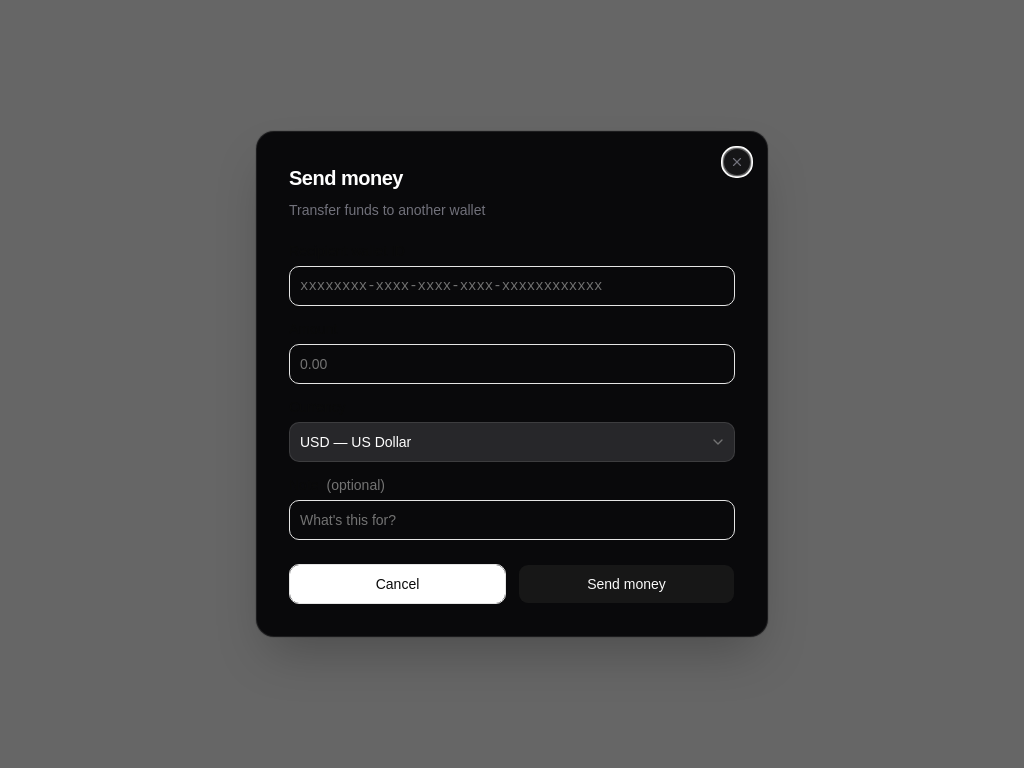
SendMoneyModal — form validation › shows error when amount is not a valid number
In the field labelled "Recipient wallet ID": (512, 286) [289,266,735,306], type "12345678-1234-4234-8234-123456789012"
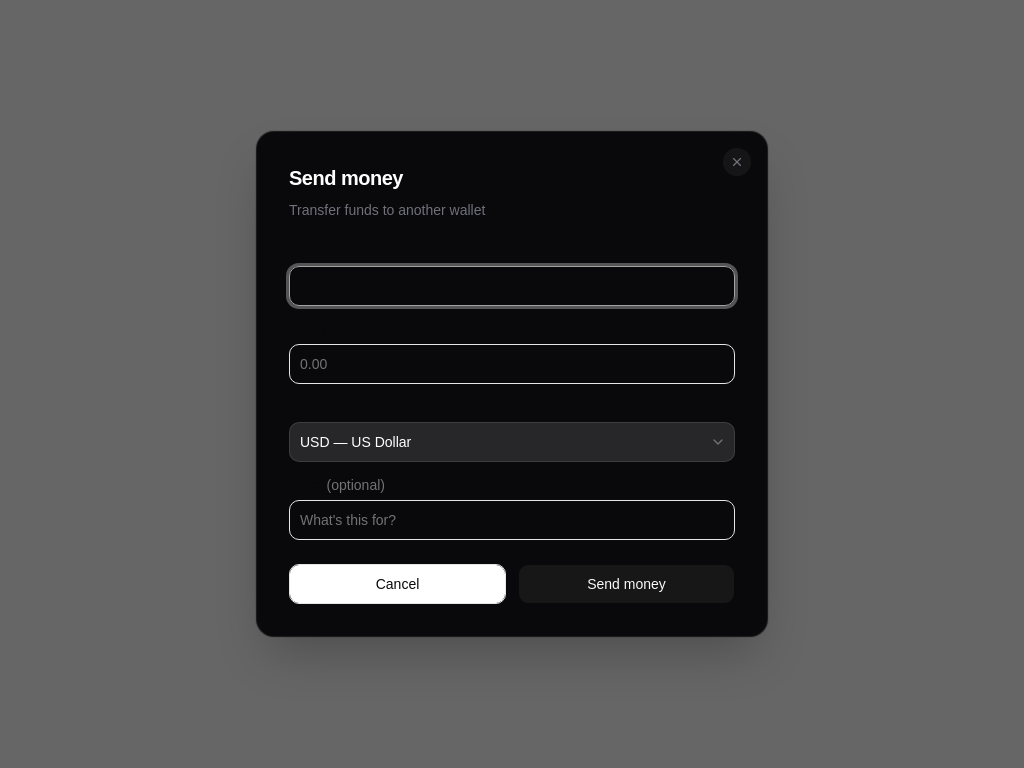
In the field labelled "Amount": (512, 364) [289,344,735,384], type "abc"
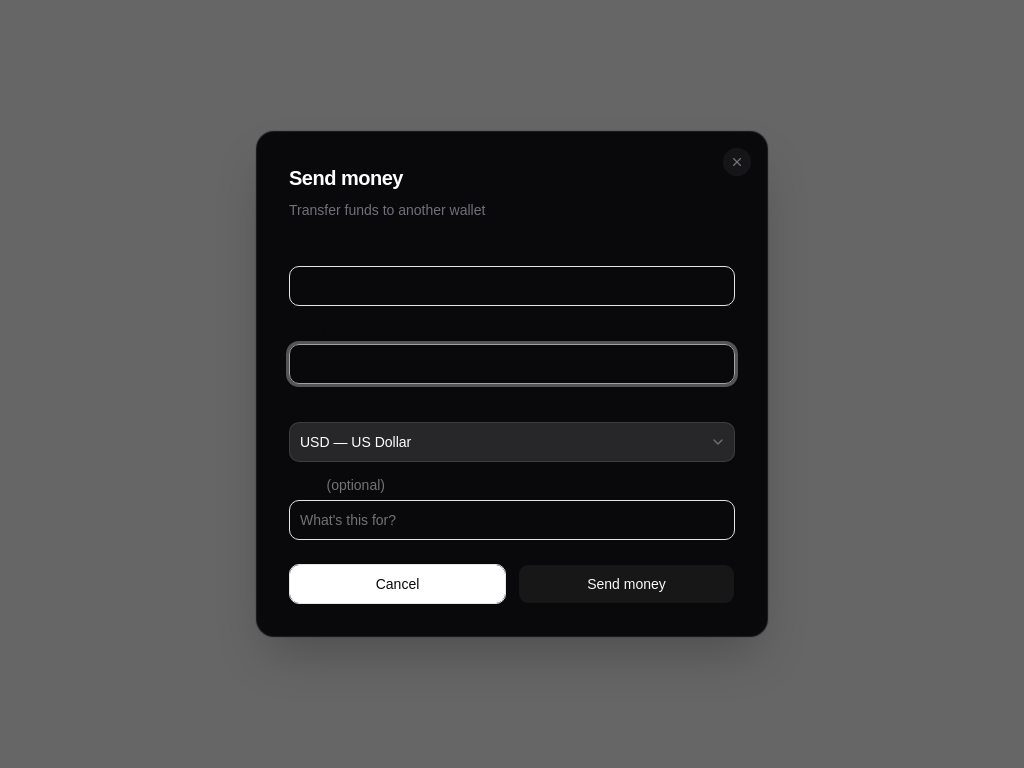
Click the button "Send money": (626, 584) [518,564,735,604]
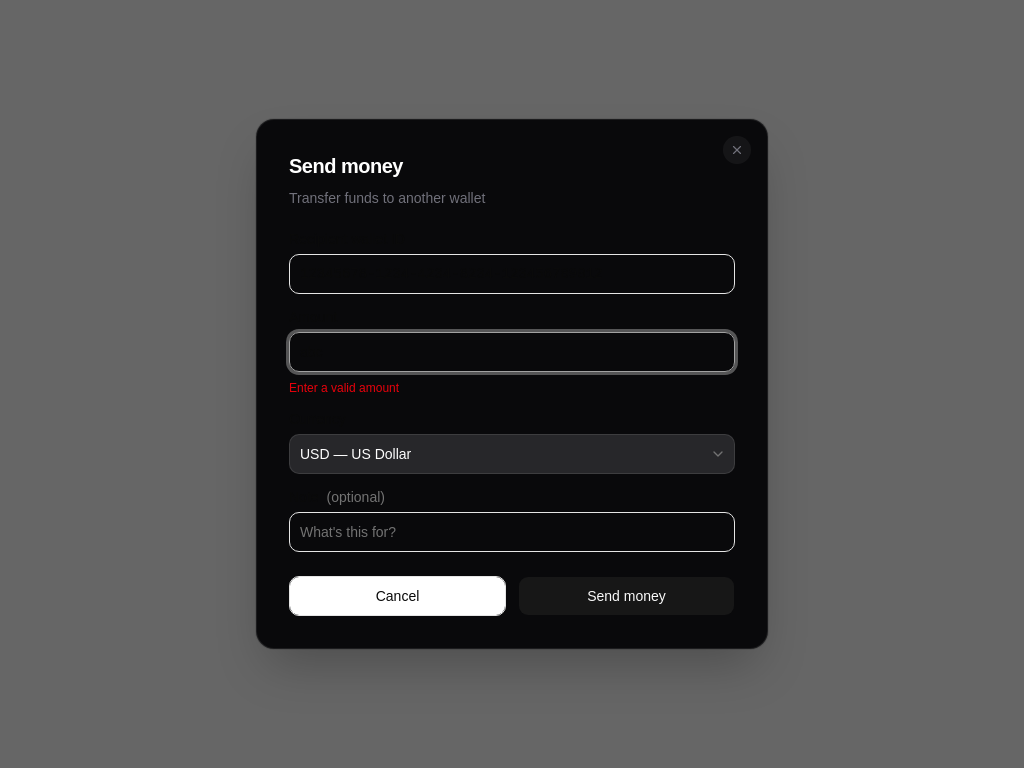
Now the text "Enter a valid amount" is shown, box [289,381,399,395]
